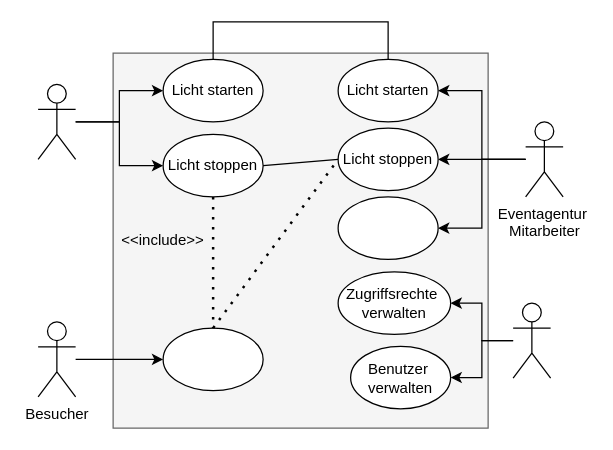
This 613x450 diagram has some shape labels left out. Each missing label, with the centre of its shape:
Administrator: (x=531, y=340)
Lichts equenz erstellen: (x=387, y=227)
Lichtshow schauen: (x=212, y=359)
Museum Mitarbeiter: (x=56, y=121)
